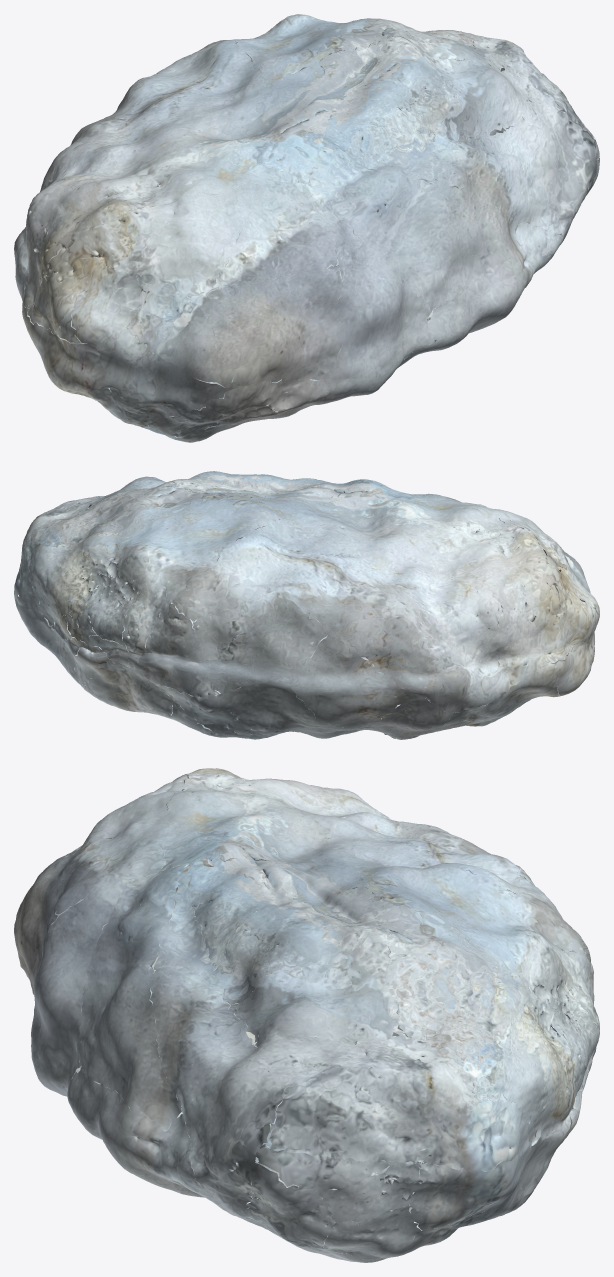
The model's file is possible_stone.glb.
3 views of the same model, one above another, from view 1: azimuth 30°, elevation 25°; view 2: azimuth 150°, elevation 25°; view 3: azimuth 270°, elevation 25° (orthographic). The views are drawn at different scales.
Visible parts, largest first — view 1: PossibleStone; view 2: PossibleStone; view 3: PossibleStone.
Boxes of the visible parts, x1,y1,x2,y2 form: PossibleStone: (14,14,599,442); PossibleStone: (14,471,599,739); PossibleStone: (14,768,599,1262).
Bounding box in the file's own units: 1.14 × 0.4821 × 0.8518.
Materials: 1 (1 with a texture image).
